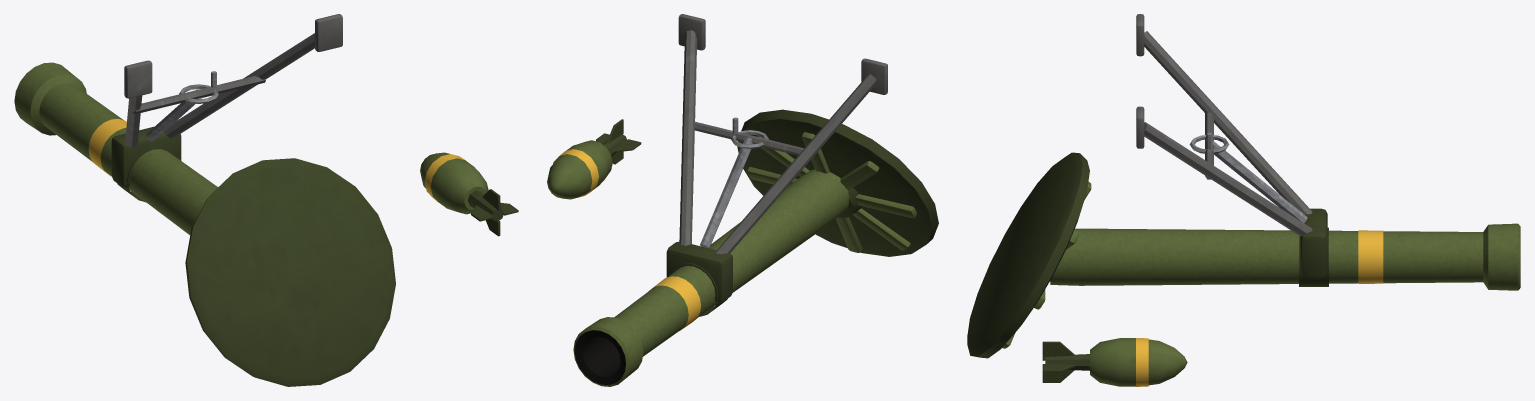
The model's file is mortar.glb.
3 views of the same model, side by side, from view 1: azimuth 30°, elevation 25°; view 2: azimuth 150°, elevation 25°; view 3: azimuth 270°, elevation 25° (orthographic). The views are drawn at different scales.
Visible parts, largest first — view 1: mortar, shell; view 2: mortar, shell; view 3: mortar, shell.
Boxes of the visible parts, box(x1,y1,x2,y2) form: mortar: box(14, 14, 395, 386); shell: box(420, 152, 518, 236); mortar: box(573, 14, 938, 386); shell: box(547, 119, 641, 199); mortar: box(967, 14, 1520, 358); shell: box(1042, 338, 1187, 386).
Bounding box in the file's own units: 0.8005 × 0.6244 × 1.11.
6 materials, 4 textured.
